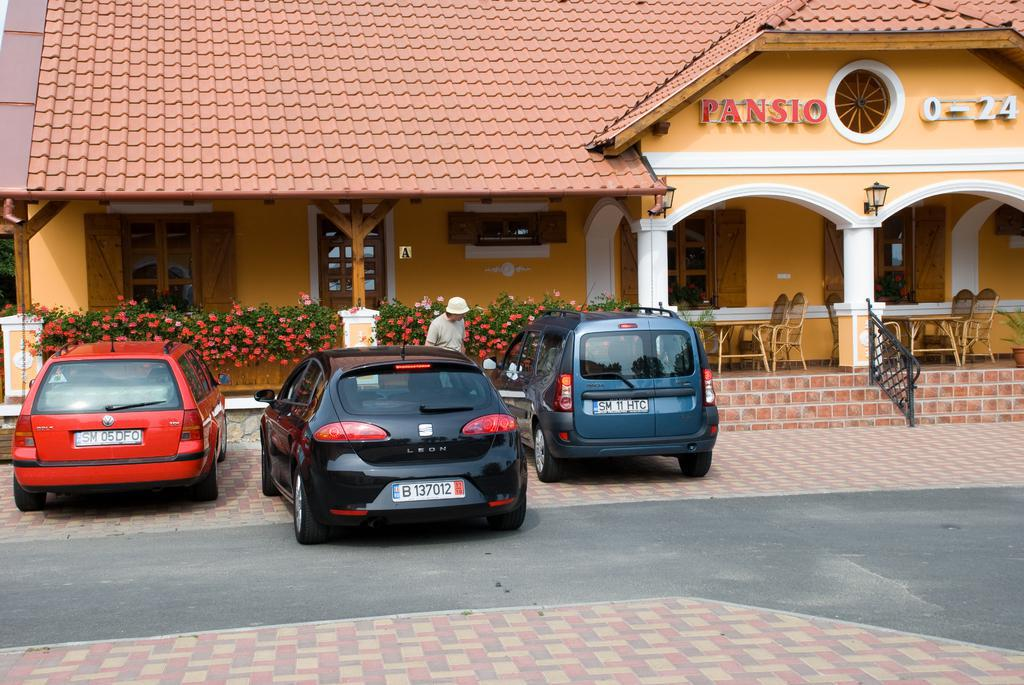License_Plate: (394, 477, 466, 503), (74, 427, 144, 447), (592, 398, 651, 415)
